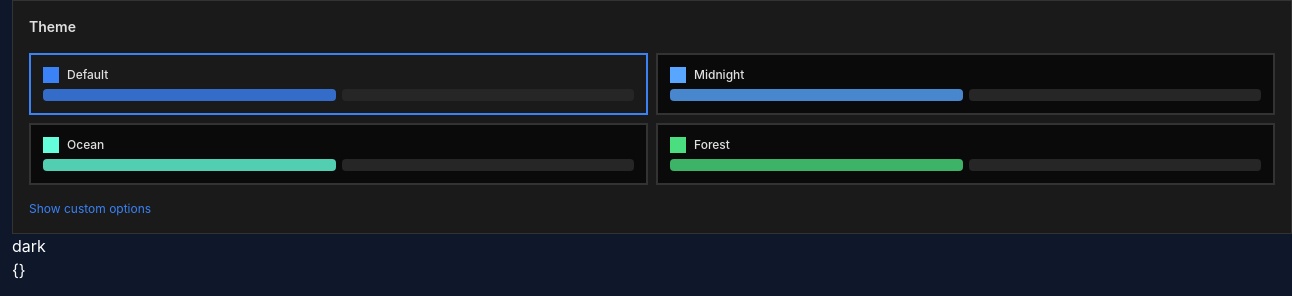
Scenario: ThemeSwitcher › selecting a preset changes the theme
What coordinates should you click on to do the following:
click the element with test id "theme-preview-midnight"
I would click on:
 (966, 84)
Its box is [656,53,1275,115].
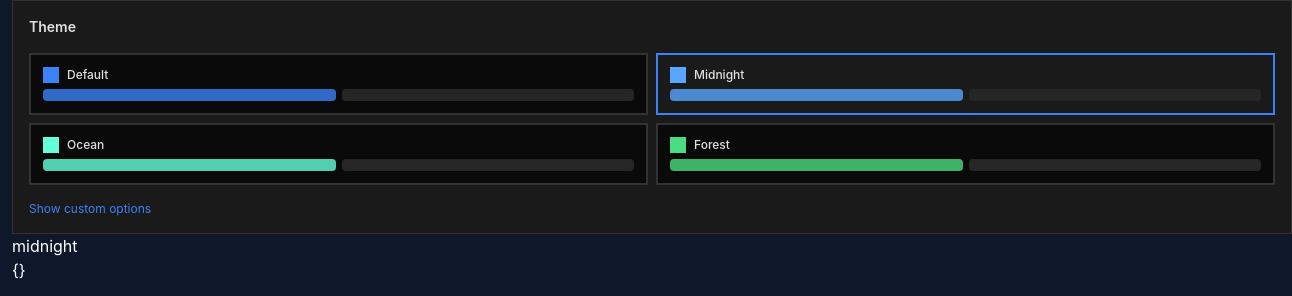
Expected: the text with test id "theme-value" reads "midnight", [12,236,78,256]
What coordinates should you click on to do the following:
click the element with test id "theme-preview-ocean"
I would click on:
 (338, 154)
Its box is [29,123,648,185].
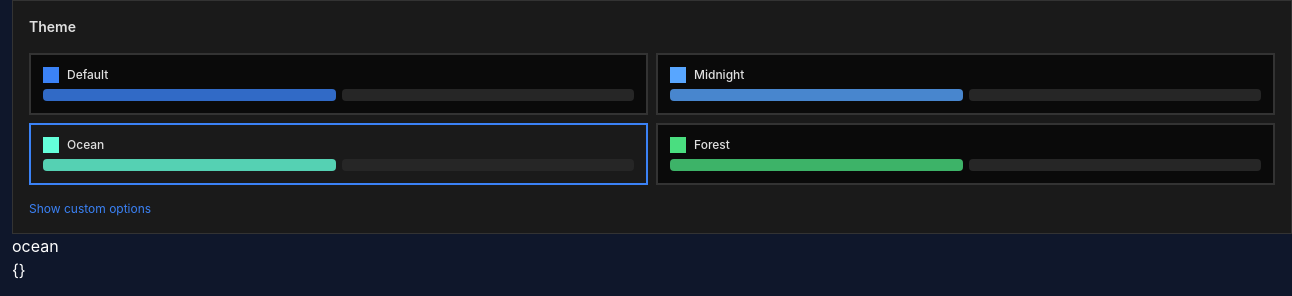
Expected: the text with test id "theme-value" reads "ocean", [12,236,59,256]
What coordinates should you click on to do the following:
click the element with test id "theme-preview-forest"
I would click on:
 (966, 154)
Its box is [656,123,1275,185].
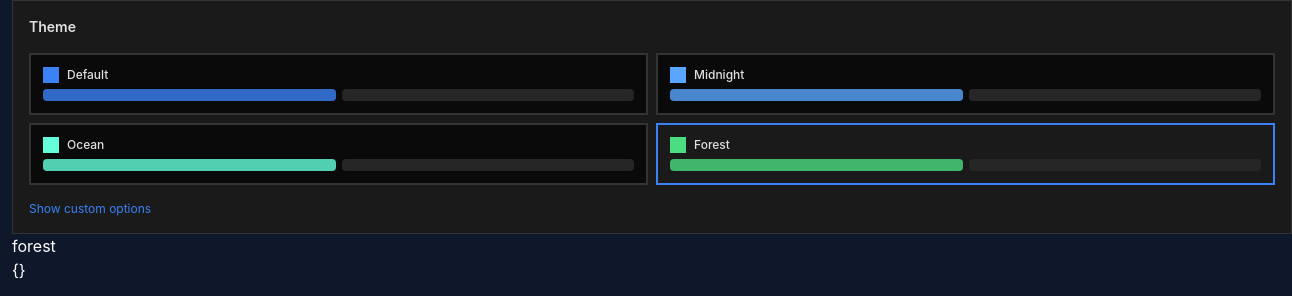
Expected: the text with test id "theme-value" reads "forest", [12,236,56,256]
